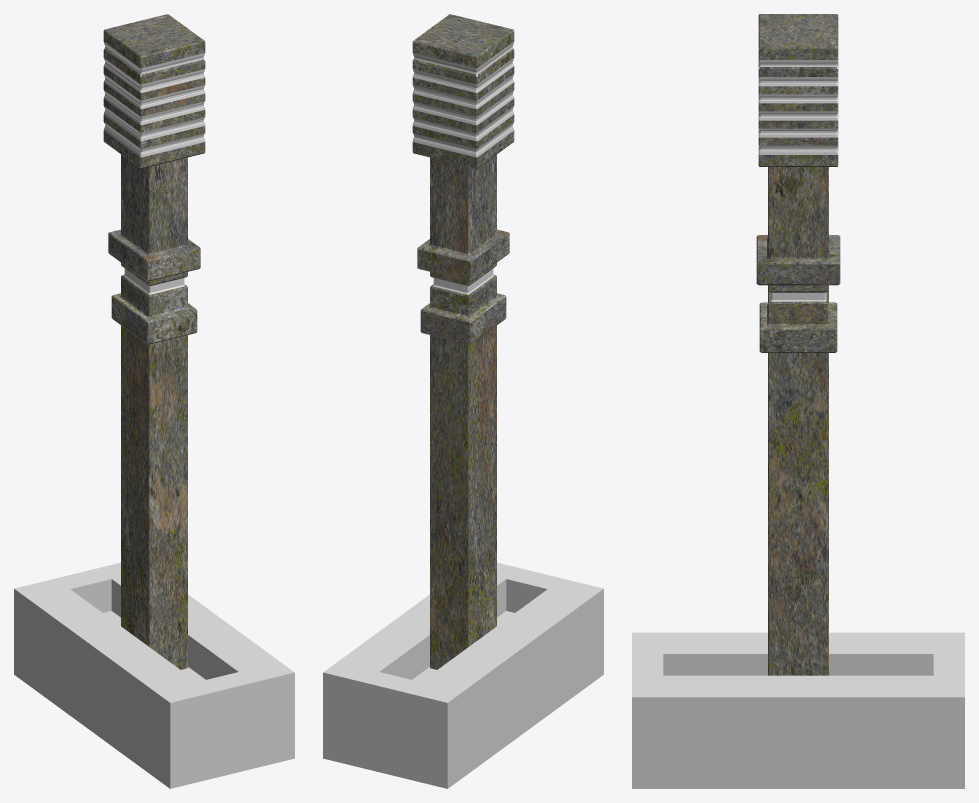
File: level2lever.fbx
3 renders of one model, left to right at view 1: azimuth 30°, elevation 25°; view 2: azimuth 150°, elevation 25°; view 3: azimuth 270°, elevation 25°, orthographic. The views are drawn at different scales.
Parts seen in each view (by area): view 1: Lever.001, LeverBAse.001; view 2: Lever.001, LeverBAse.001; view 3: LeverBAse.001, Lever.001.
Part boxes in pixels (x1=…): Lever.001: x1=103, y1=14, x2=205, y2=669; LeverBAse.001: x1=14, y1=562, x2=294, y2=788; Lever.001: x1=412, y1=14, x2=514, y2=669; LeverBAse.001: x1=323, y1=562, x2=603, y2=788; LeverBAse.001: x1=632, y1=632, x2=964, y2=788; Lever.001: x1=756, y1=14, x2=840, y2=675.
Size of the model in its own units: 35.83 by 187 by 77.77.
